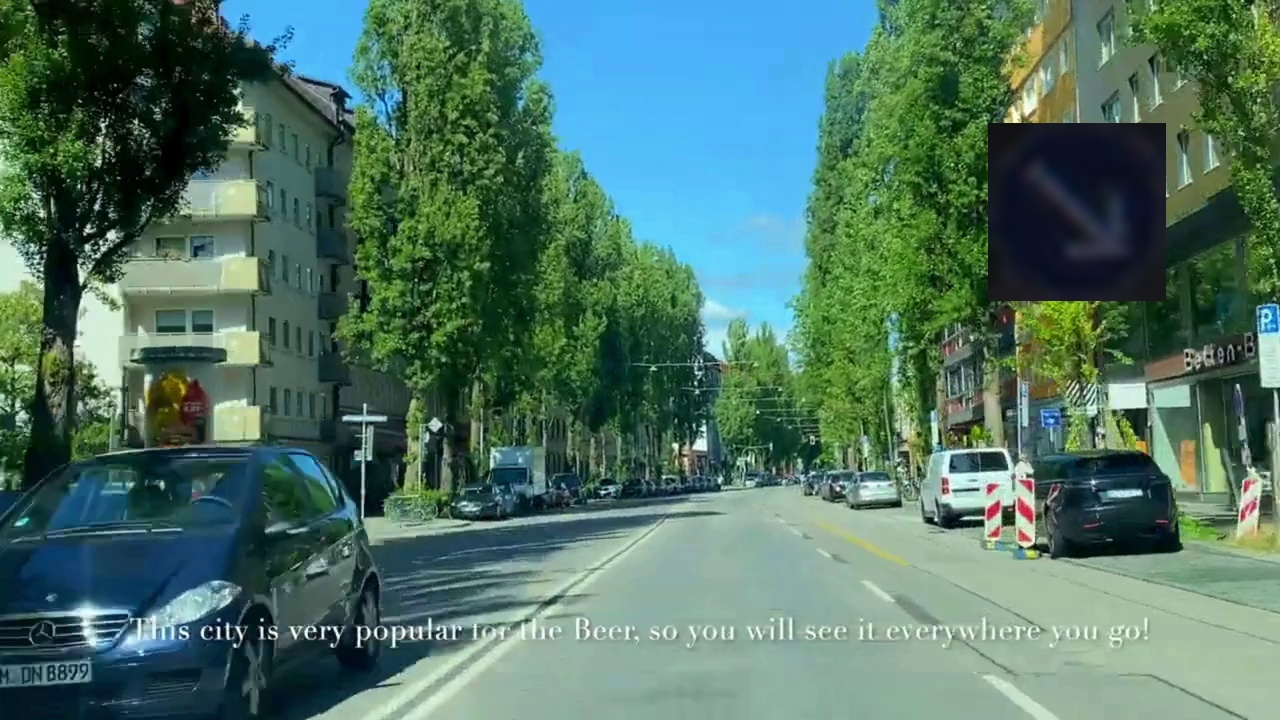Keep right: (988, 123, 1166, 301)
